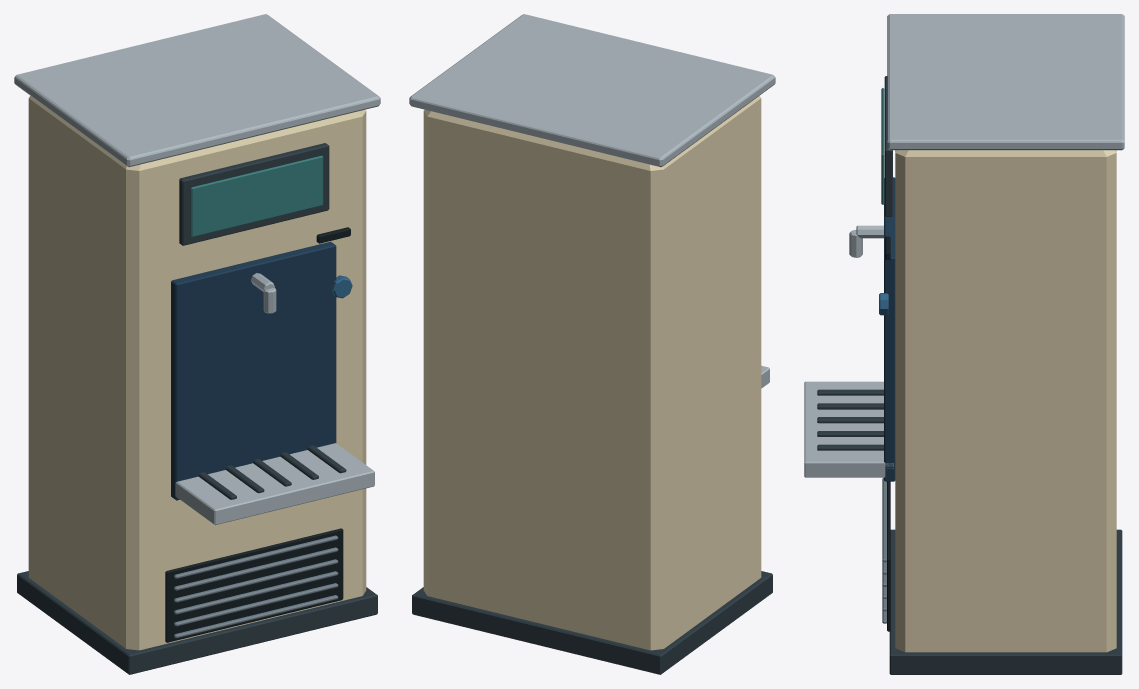
File: b10_filtered_water_refill_station.glb
The picture shows the model from 3 angles, left to right: view 1: azimuth 30°, elevation 25°; view 2: azimuth 150°, elevation 25°; view 3: azimuth 270°, elevation 25°; orthographic projection. The views are drawn at different scales.
Visible parts, largest first — view 1: b10_filtered_water_refill_station; view 2: b10_filtered_water_refill_station; view 3: b10_filtered_water_refill_station.
Boxes of the visible parts, x1,y1,x2,y2 form: b10_filtered_water_refill_station: (14, 14, 380, 674); b10_filtered_water_refill_station: (409, 14, 775, 674); b10_filtered_water_refill_station: (804, 14, 1124, 674).
Bounding box in the file's own units: 0.93 × 1.82 × 0.985.
